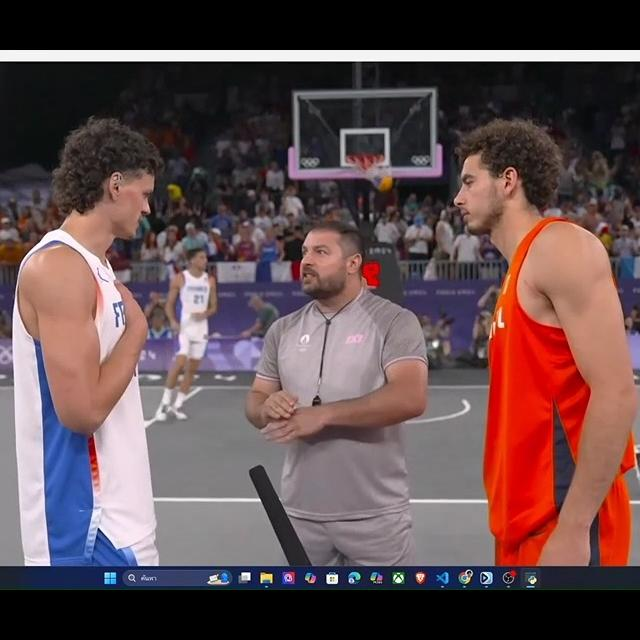hoop: (347, 150, 387, 175)
